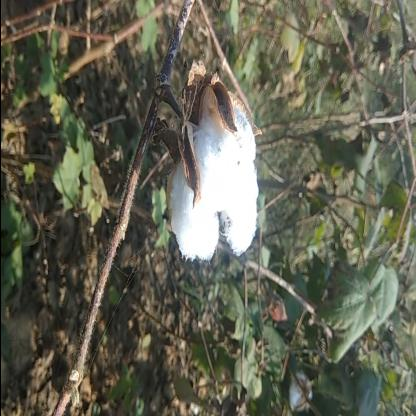cotton_ready: (150, 94, 276, 256)
